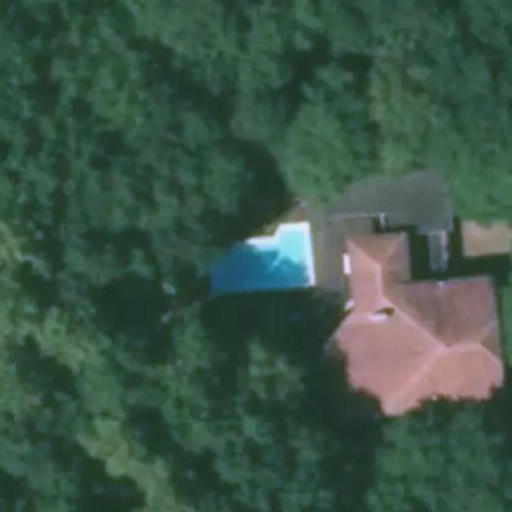pool: (200, 209, 311, 274)
